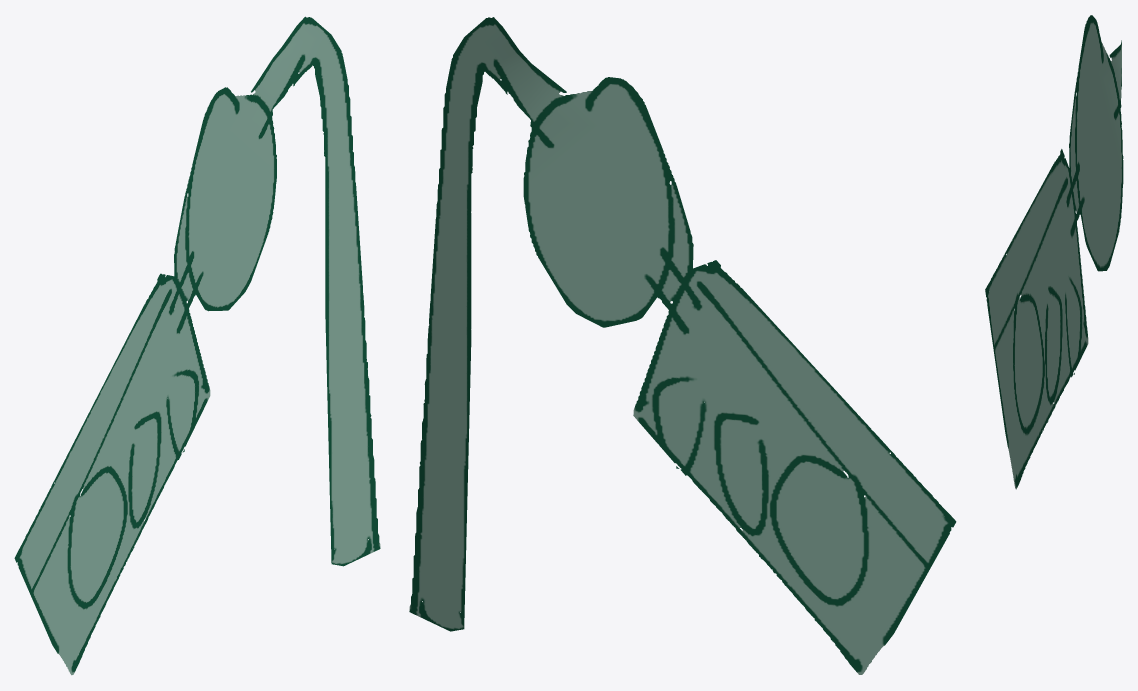
The model's file is TrafficLight_05.fbx.
3 renders of one model, left to right at view 1: azimuth 30°, elevation 25°; view 2: azimuth 150°, elevation 25°; view 3: azimuth 270°, elevation 25°, orthographic. The views are drawn at different scales.
Parts seen in each view (by area): view 1: 紅綠燈_05; view 2: 紅綠燈_05; view 3: 紅綠燈_05.
Part boxes in pixels (x1,y1,x2,y2): 紅綠燈_05: [14, 16, 380, 675]; 紅綠燈_05: [409, 17, 956, 674]; 紅綠燈_05: [985, 15, 1123, 489].
Size of the model in its own units: 339 by 425 by 85.69.
Materials: 1 (1 with a texture image).
